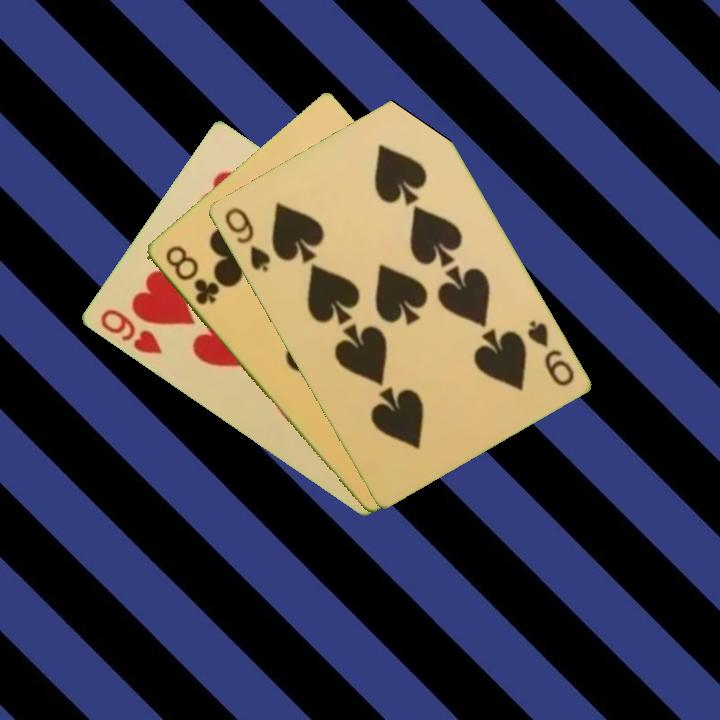8c: (161, 241, 222, 308)
9h: (96, 305, 165, 358)
9s: (523, 317, 577, 389), (220, 203, 273, 276)
